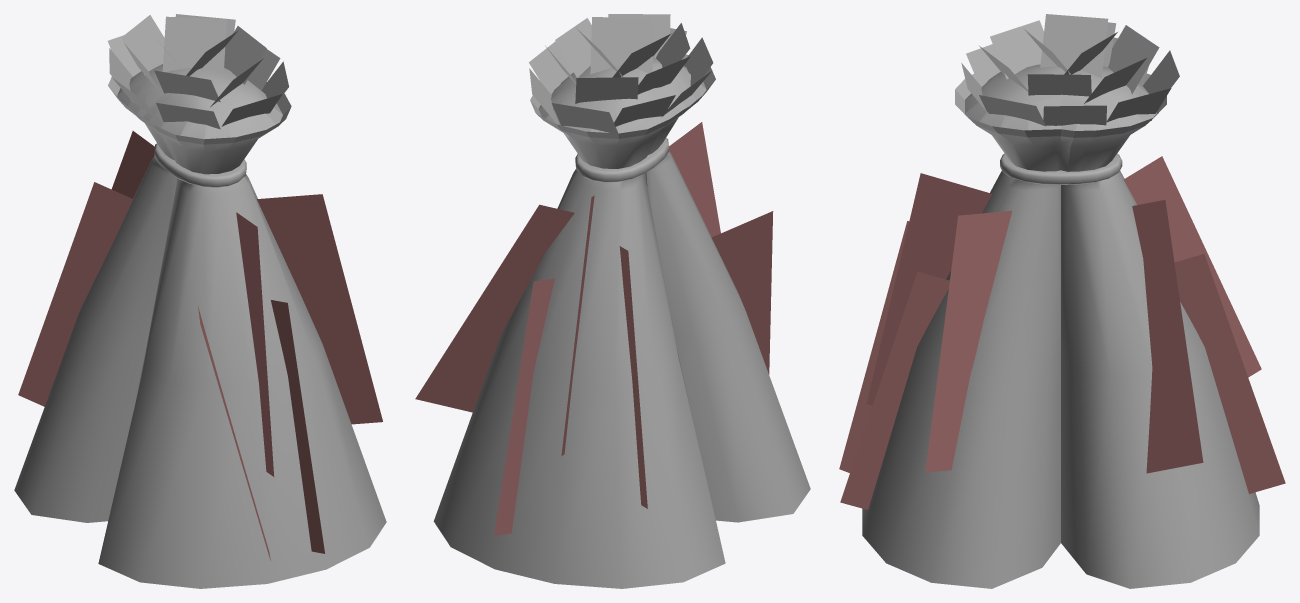
The model's file is hay.fbx.
3 renders of one model, left to right at view 1: azimuth 30°, elevation 25°; view 2: azimuth 150°, elevation 25°; view 3: azimuth 270°, elevation 25°, orthographic. The views are drawn at different scales.
Parts seen in each view (by area): view 1: pCylinder8, pPlane20, pPlane21, pPlane19, pPlane25, pPlane17, pPlane26, pPlane12, pCylinder9, pPlane13, pPlane15, pPlane3 (+6 smaller); view 2: pCylinder8, pPlane22, pPlane24, pPlane23, pPlane18, pPlane25, pPlane21, pPlane12, pCylinder9, pPlane13, pPlane8, pPlane6 (+8 smaller); view 3: pCylinder8, pPlane22, pPlane20, pPlane23, pPlane25, pPlane19, pPlane26, pPlane16, pPlane24, pPlane15, pCylinder9, pPlane12 (+7 smaller).
Boxes of the visible parts, x1,y1,x2,y2 form: pCylinder8: (14, 64, 386, 588); pPlane20: (257, 194, 382, 424); pPlane21: (18, 182, 132, 406); pPlane19: (271, 300, 324, 553); pPlane25: (236, 212, 274, 476); pPlane17: (162, 16, 226, 73); pPlane26: (111, 131, 154, 198); pPlane12: (121, 15, 164, 75); pCylinder9: (154, 143, 246, 187); pPlane13: (224, 26, 266, 84); pPlane15: (154, 70, 220, 102); pPlane3: (156, 103, 220, 129); pCylinder8: (433, 54, 810, 588); pPlane22: (415, 204, 574, 412); pPlane24: (711, 211, 773, 374); pPlane23: (494, 278, 554, 535); pPlane18: (590, 17, 653, 74); pPlane25: (669, 122, 720, 237); pPlane21: (619, 246, 647, 508); pPlane12: (575, 77, 638, 103); pCylinder9: (575, 137, 668, 182); pPlane13: (555, 18, 591, 77); pPlane8: (551, 103, 622, 142); pPlane6: (529, 41, 573, 94); pCylinder8: (862, 64, 1259, 588); pPlane22: (1132, 200, 1203, 473); pPlane20: (925, 210, 1012, 472); pPlane23: (1174, 254, 1285, 493); pPlane25: (866, 173, 992, 405); pPlane19: (840, 271, 949, 509); pPlane26: (1123, 156, 1261, 377); pPlane16: (1040, 14, 1108, 78); pPlane24: (839, 221, 909, 472); pPlane15: (990, 20, 1043, 79); pCylinder9: (1000, 153, 1122, 184); pPlane12: (1108, 25, 1159, 94).
Bounding box in the file's own units: 89.79 × 149 × 124.
